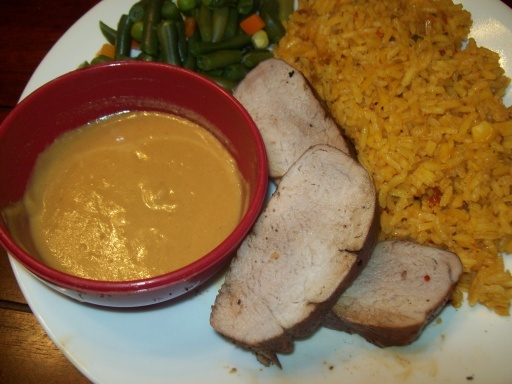background: (61, 0, 409, 222), (0, 65, 200, 168)
